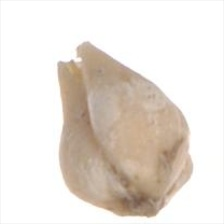L1: (56, 41, 89, 87), (114, 193, 168, 218)
L2: (57, 41, 193, 217)
